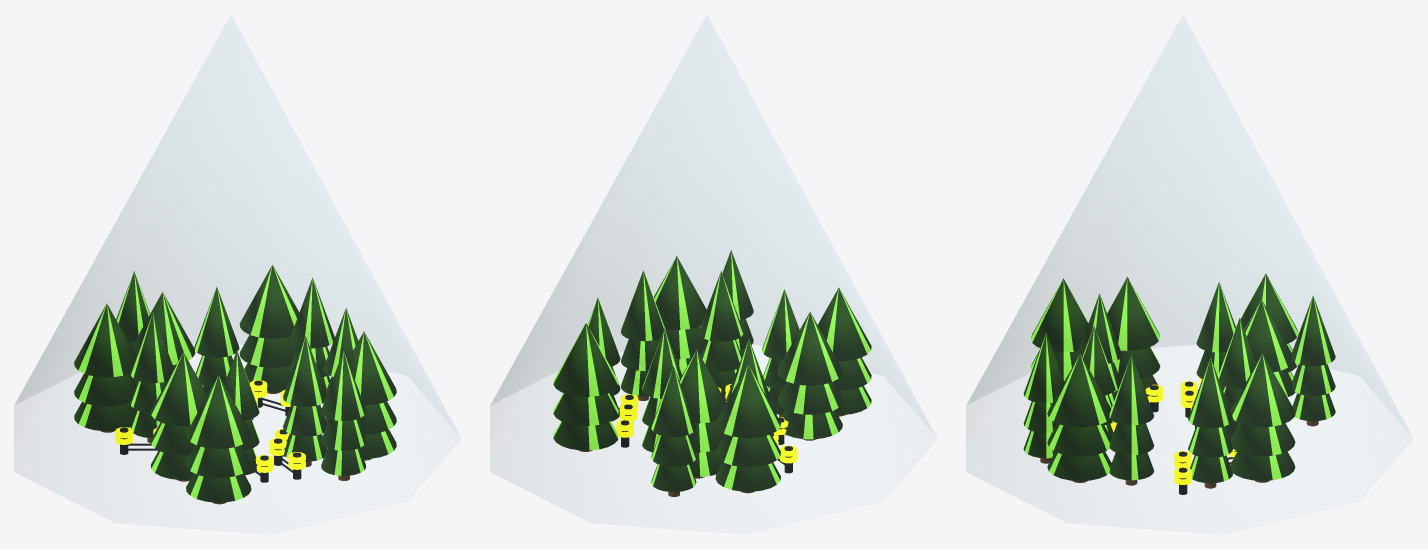
File: park1.glb
The picture shows the model from 3 angles, left to right: view 1: azimuth 30°, elevation 25°; view 2: azimuth 150°, elevation 25°; view 3: azimuth 270°, elevation 25°; orthographic projection.
Parts seen in each view (by area): view 1: Park1; view 2: Park1; view 3: Park1.
Boxes of the visible parts, x1,y1,x2,y2 form: Park1: (14,15,460,534); Park1: (490,15,936,534); Park1: (966,15,1412,534).
Size of the model in its own units: 118 by 122 by 116.
